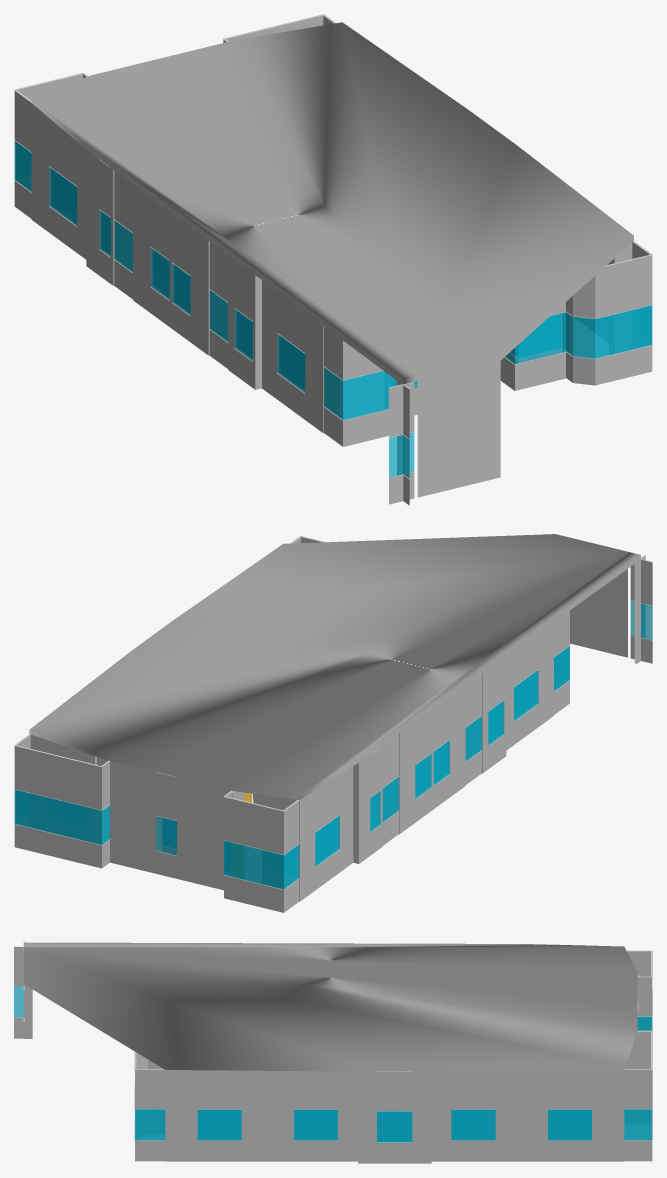
3 renders of one model, top to bottom at view 1: azimuth 30°, elevation 25°; view 2: azimuth 150°, elevation 25°; view 3: azimuth 270°, elevation 25°, orthographic. The views are drawn at different scales.
Parts seen in each view (by area): view 1: roof, walls, windows; view 2: roof, walls, windows; view 3: roof, walls, windows.
Part boxes in pixels (<box>): roof: <box>31,22,633,384</box>; walls: <box>14,14,652,505</box>; windows: <box>14,141,652,478</box>; roof: <box>29,534,640,799</box>; walls: <box>14,536,652,912</box>; windows: <box>14,601,652,889</box>; roof: <box>24,942,637,1071</box>; walls: <box>14,941,652,1163</box>; windows: <box>14,986,652,1142</box>.
Size of the model in its own units: 10.67 by 3.65 by 22.05.
